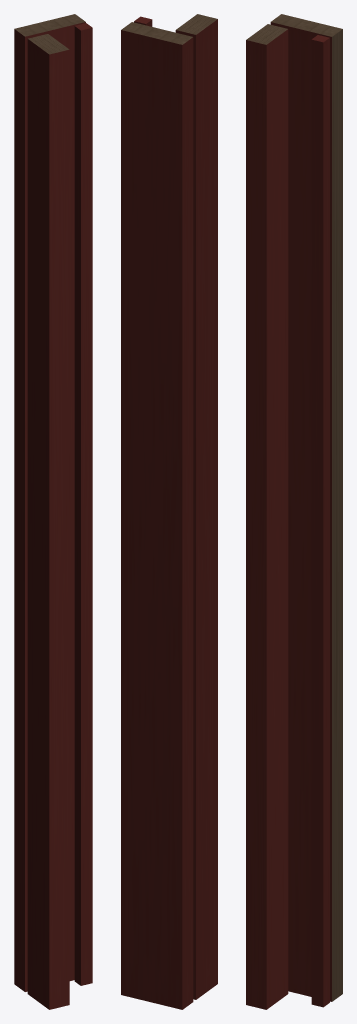
Rendered from house_02_corner_trim.glb.
3 renders of one model, left to right at view 1: azimuth 30°, elevation 25°; view 2: azimuth 150°, elevation 25°; view 3: azimuth 330°, elevation 25°, orthographic.
Parts seen in each view (by area): view 1: outdoor_house_02_corner_trim; view 2: outdoor_house_02_corner_trim; view 3: outdoor_house_02_corner_trim.
Boxes of the visible parts, box(x1,y1,x2,y2) form: outdoor_house_02_corner_trim: box(14, 14, 92, 1009); outdoor_house_02_corner_trim: box(121, 14, 217, 1009); outdoor_house_02_corner_trim: box(246, 14, 342, 1009).
Bounding box in the file's own units: 0.18 × 2.7 × 0.18.
1 material, 1 textured.
